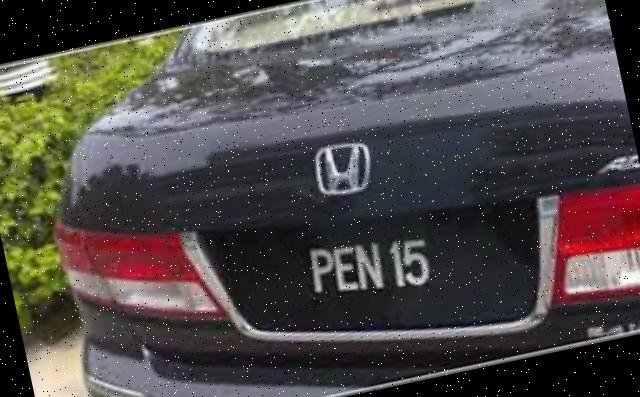License_Plate: (197, 169, 570, 368)
car: (12, 1, 640, 397)
